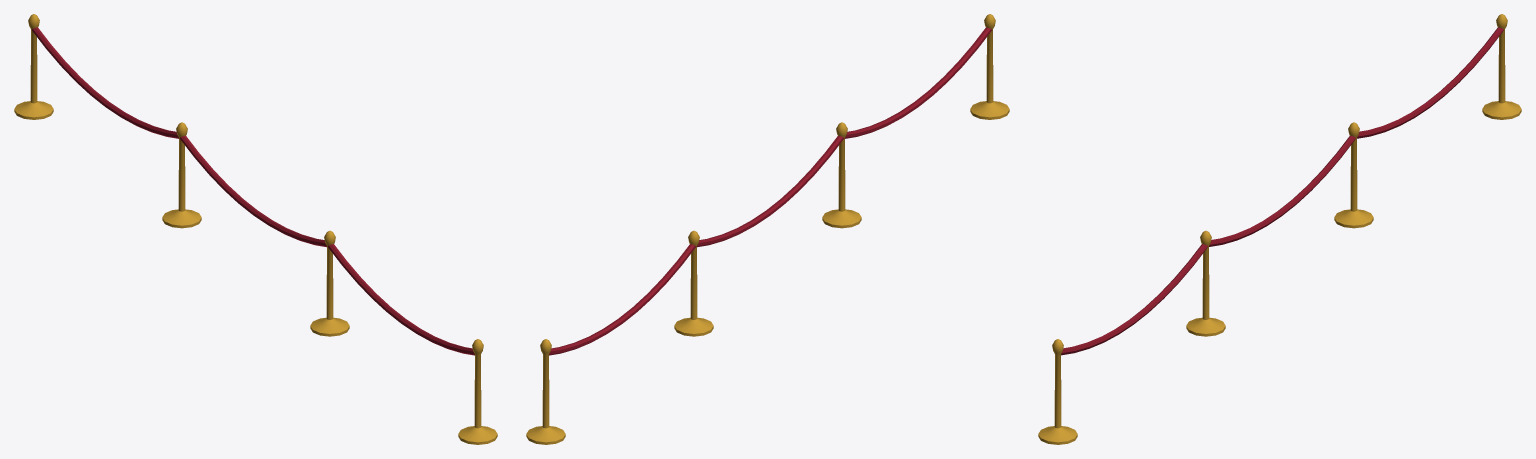
The model's file is stanchions_block.glb.
3 renders of one model, left to right at view 1: azimuth 30°, elevation 25°; view 2: azimuth 150°, elevation 25°; view 3: azimuth 330°, elevation 25°, orthographic.
Visible parts, largest first — view 1: stanchions; view 2: stanchions; view 3: stanchions.
Part boxes in pixels (x1,y1,x2,y2): stanchions: (14, 14, 497, 444); stanchions: (526, 14, 1009, 444); stanchions: (1038, 14, 1521, 444).
Bounding box in the file's own units: 0.4 × 1.09 × 9.4.
